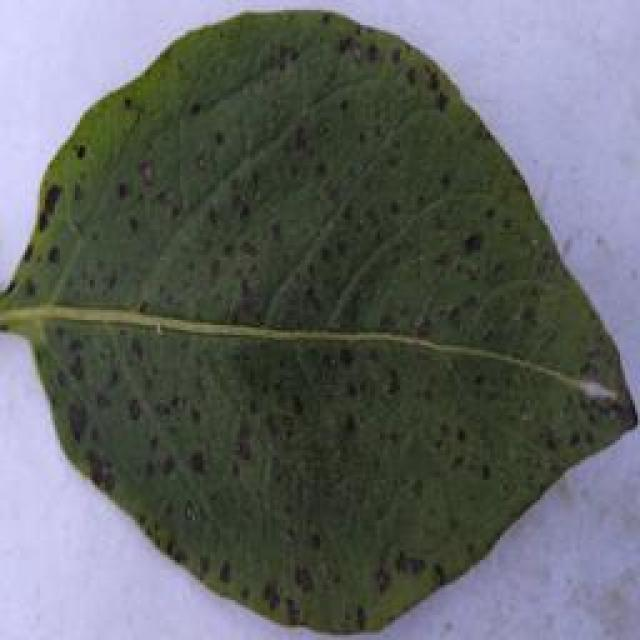Potato_Early_Blight: (6, 4, 632, 630)
